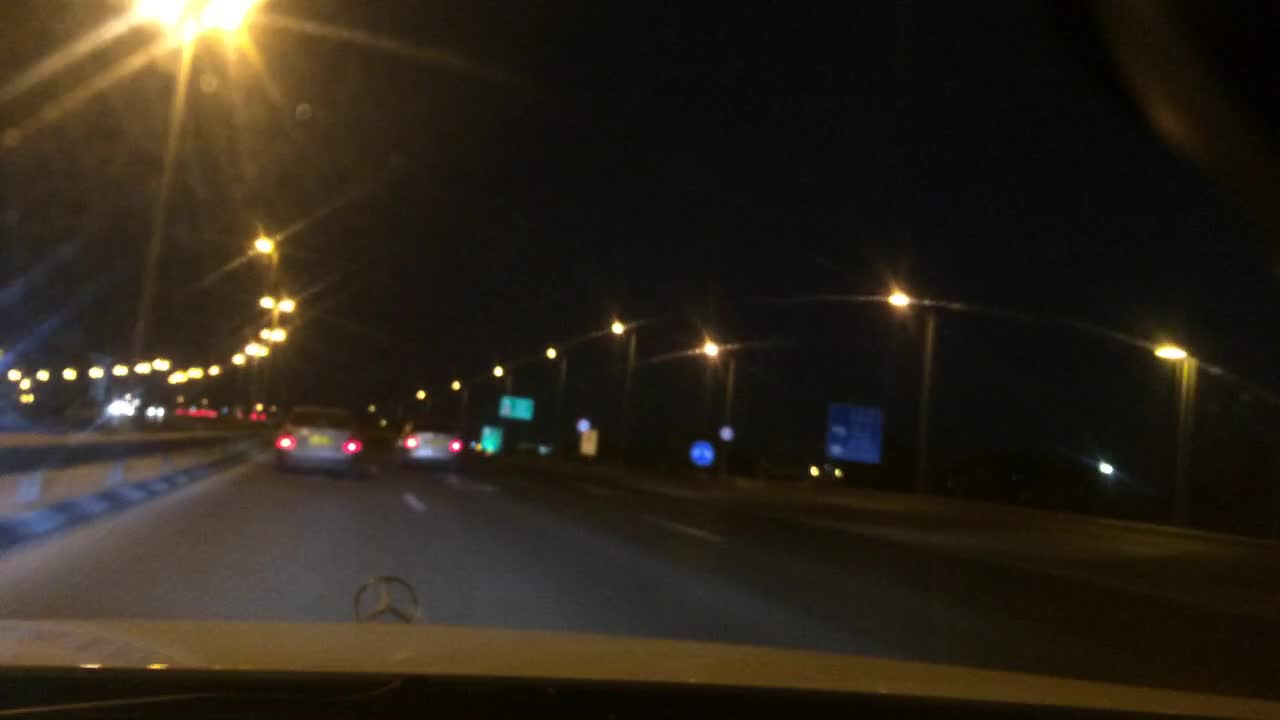car: (928, 437, 1171, 523), (275, 403, 361, 477), (391, 415, 465, 469), (103, 395, 136, 422), (141, 403, 165, 420)
traffic sign: (823, 396, 884, 464), (496, 393, 536, 418), (687, 439, 714, 469), (479, 423, 503, 450), (577, 428, 597, 457), (717, 423, 735, 442), (575, 415, 589, 430)
